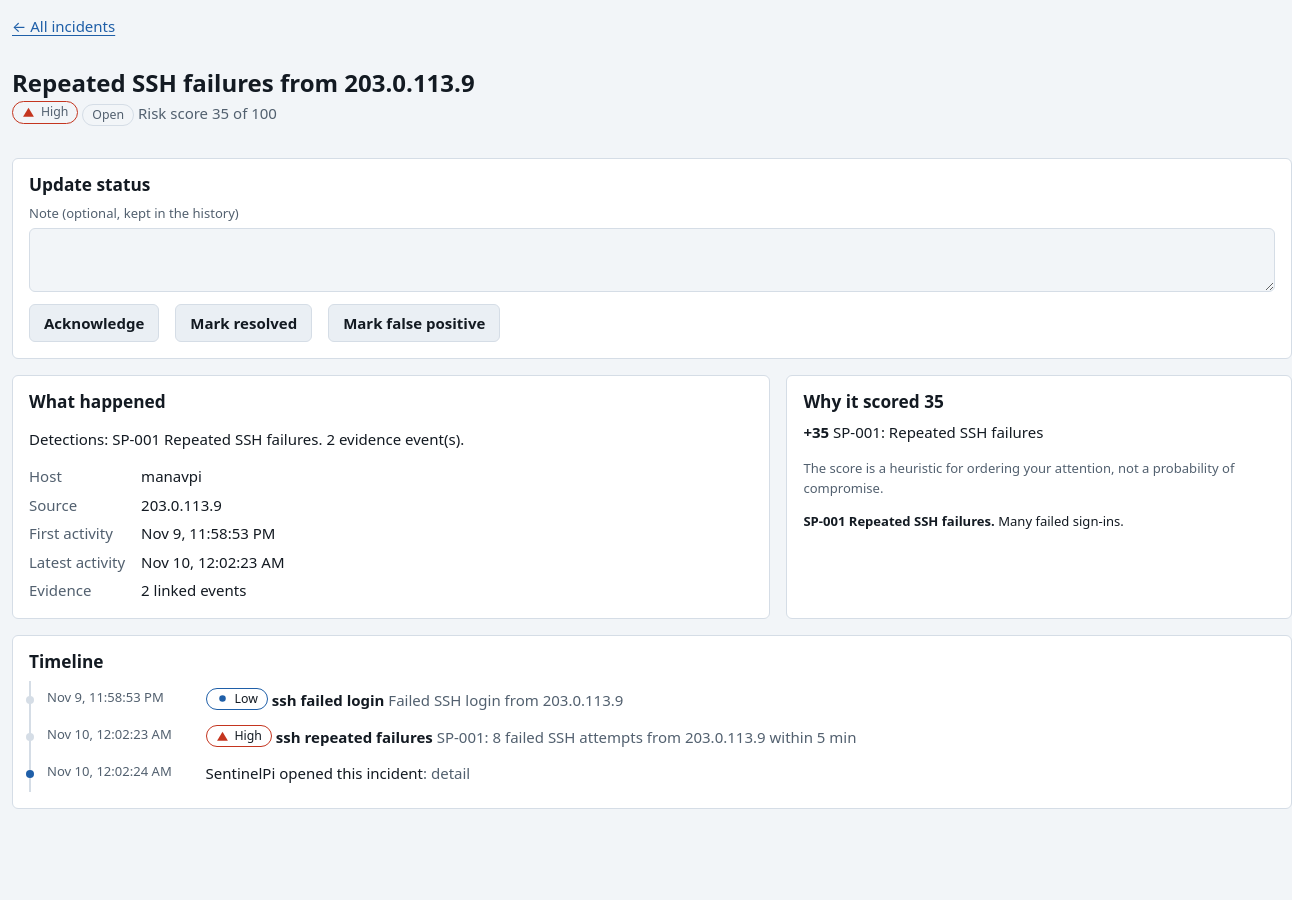
Test: IncidentDetail › shows the server's reason when a change is refused
This screenshot has width=1292, height=900.
Click the button "Acknowledge": (94, 323) [29, 304, 159, 342]
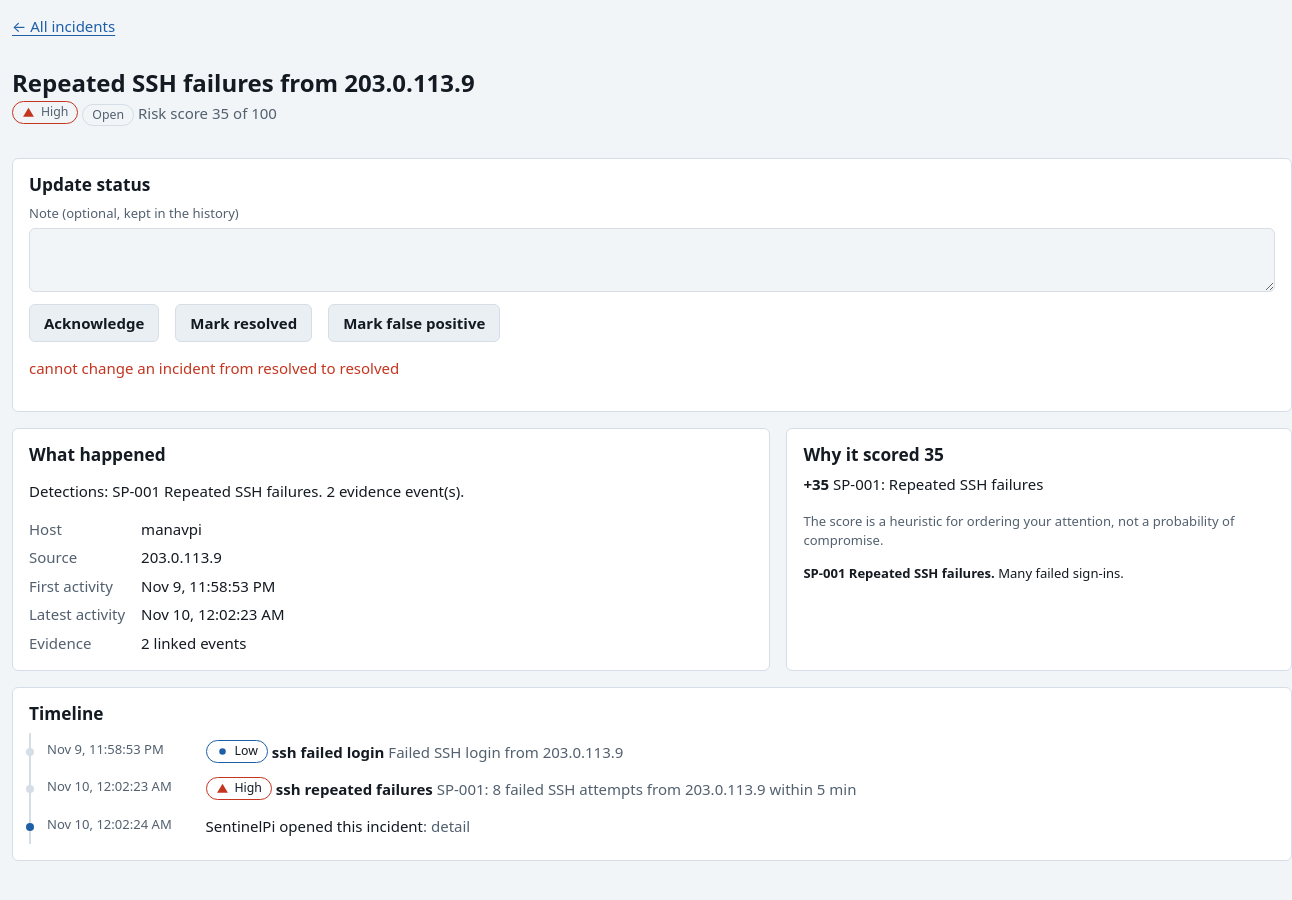
expect the message shows "cannot change an incident": met, box [29, 358, 399, 378]
